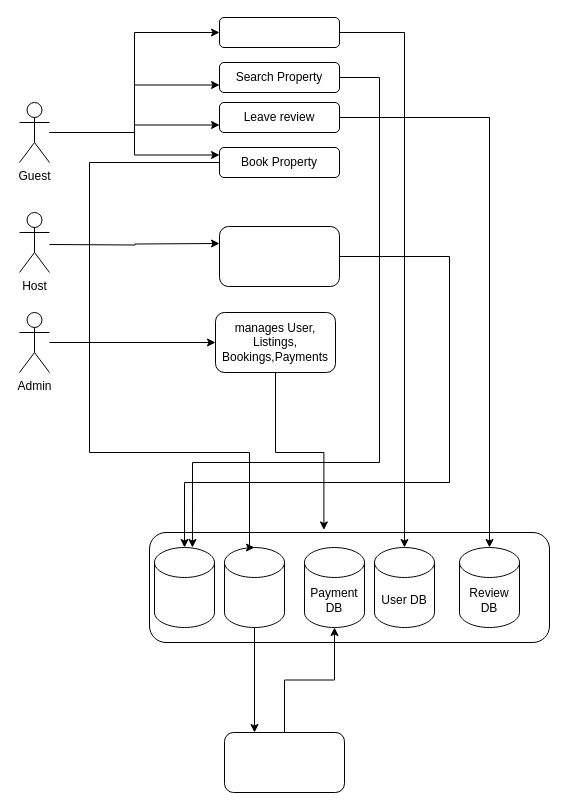
Image size: 567x810. Some labels were removed from this diagram. Here are the shapes that lost their labels. From the top down, the centre of each, then its label:
At point (279, 32): "Register/Login".
At point (279, 256): "Add Property".
At point (184, 587): "Property DB".
At point (254, 587): "Booking DB".
At point (284, 762): "Payment Gateway".
